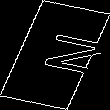N_W: (11, 29, 99, 81)
